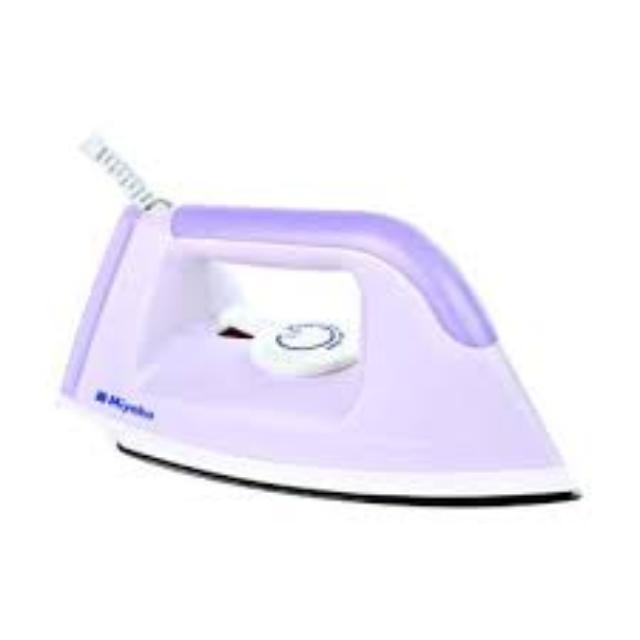Clothes-Iron: (75, 173, 513, 542)
